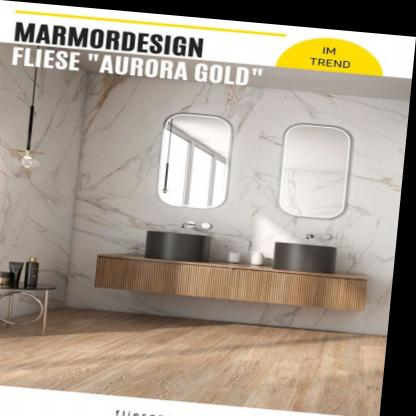Wooden floor: (0, 308, 393, 416)
